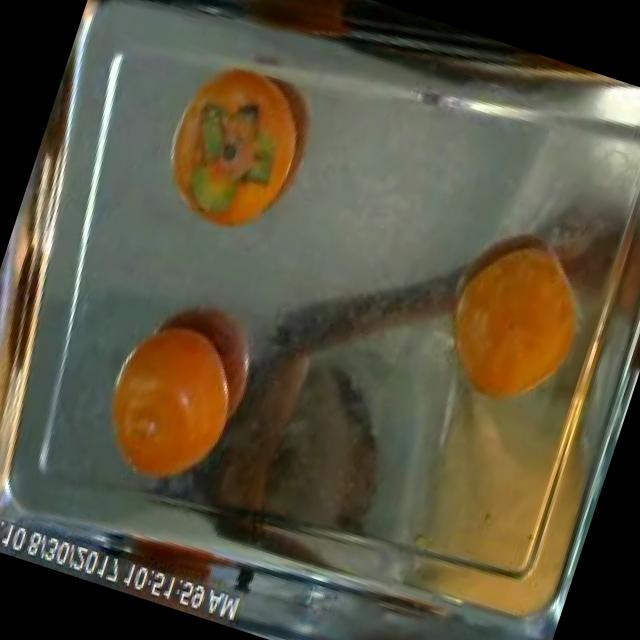Fruit: (168, 296, 442, 578), (131, 18, 349, 266), (412, 196, 614, 439), (76, 288, 270, 514)
